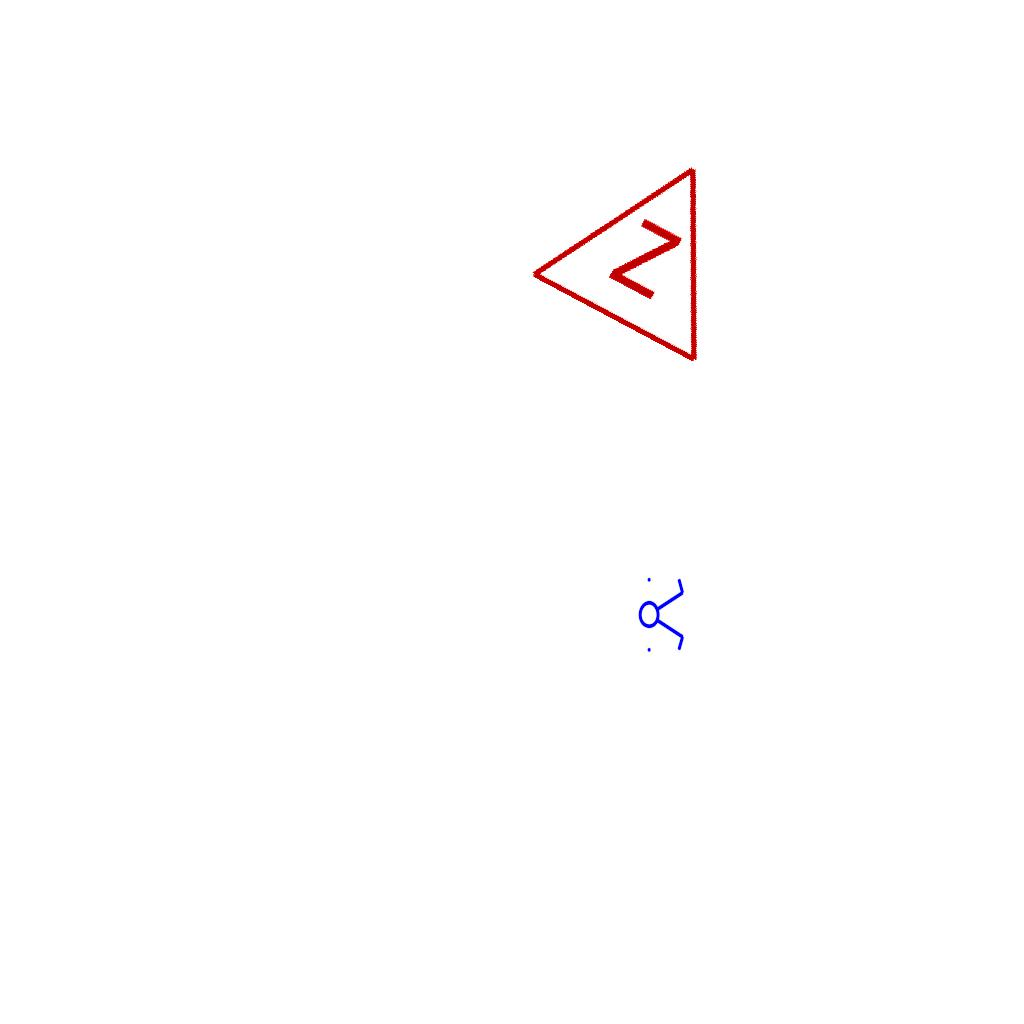Serienschalter: (638, 572, 686, 656)
Zimmersignalleuchte: (517, 108, 785, 378)
